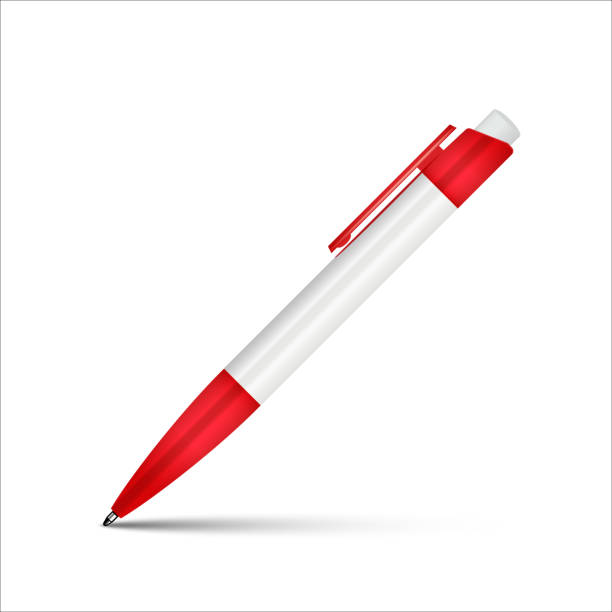pen: (93, 96, 546, 538)
